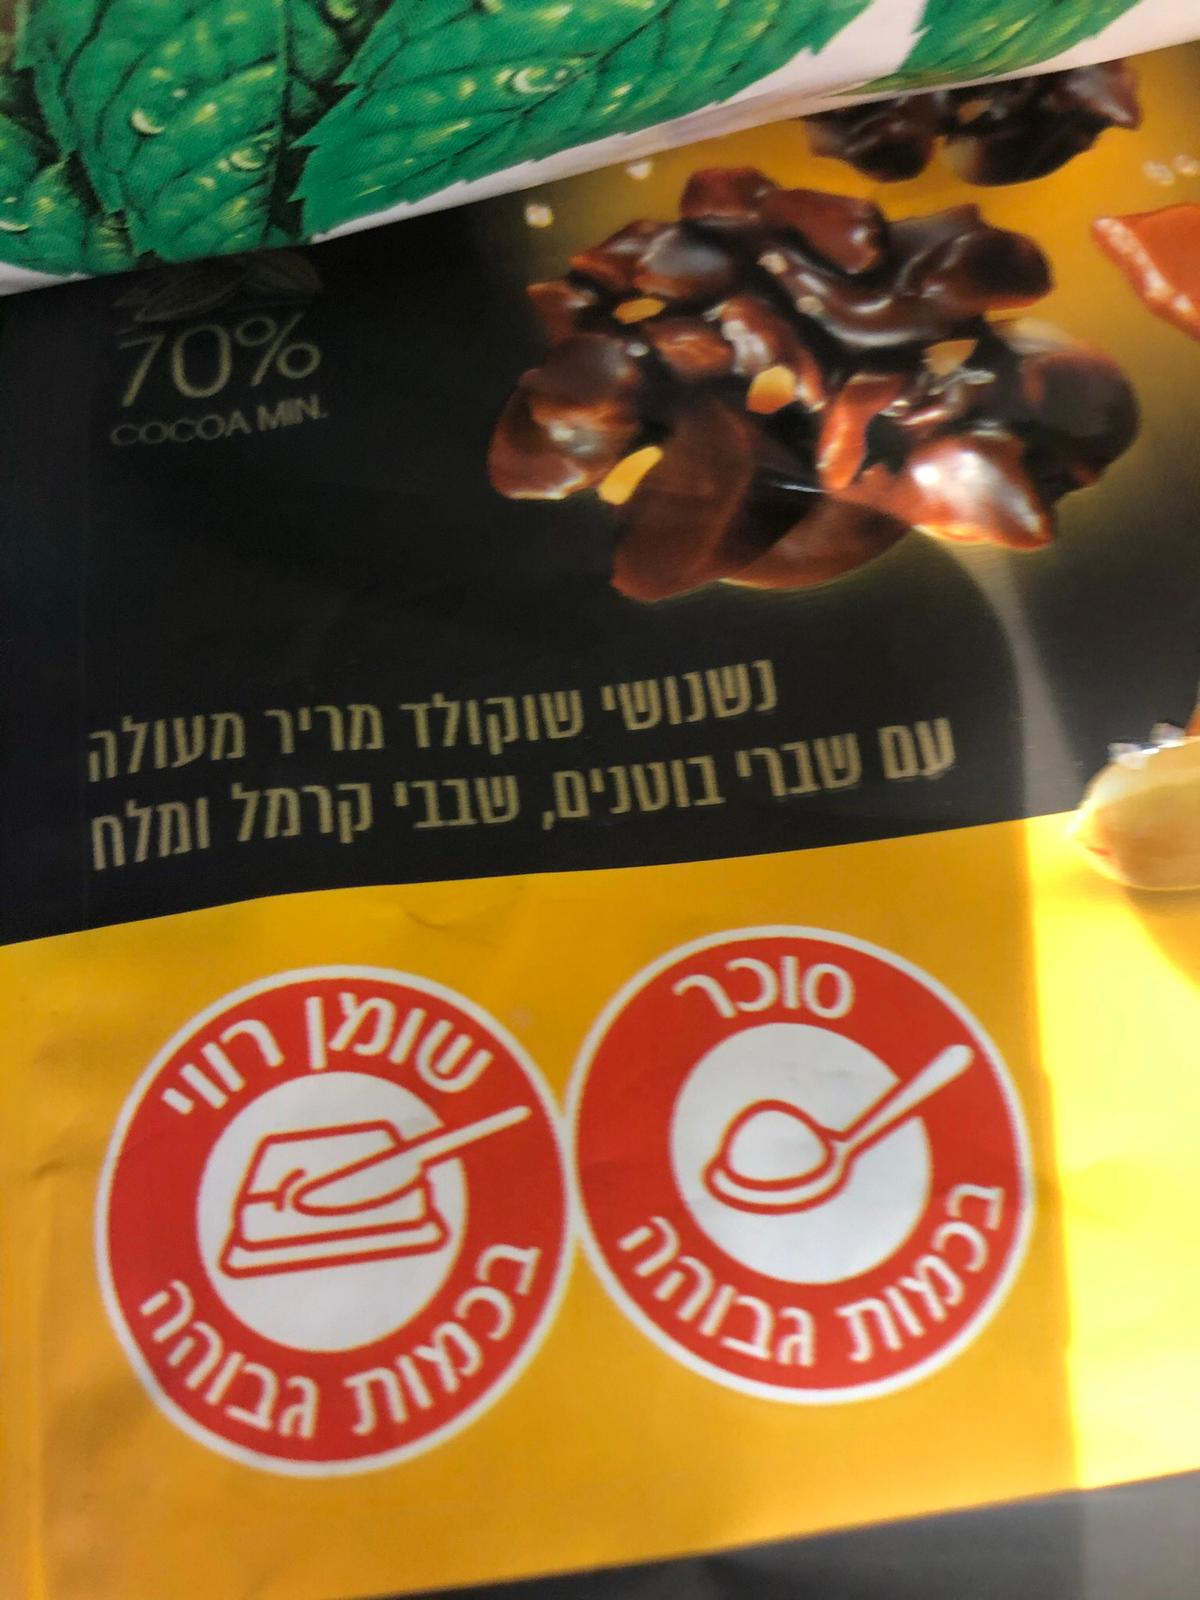fat: (92, 963, 577, 1477)
sugar: (566, 923, 1041, 1409)
